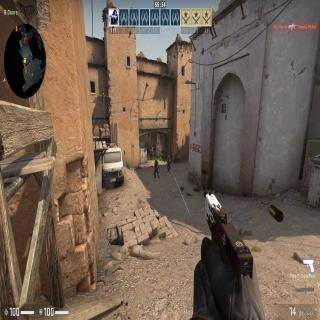CT-Body: (153, 158, 159, 177), (167, 156, 170, 170), (150, 146, 153, 158)
CT-Head: (155, 159, 157, 162), (151, 145, 152, 148), (168, 155, 169, 158)
